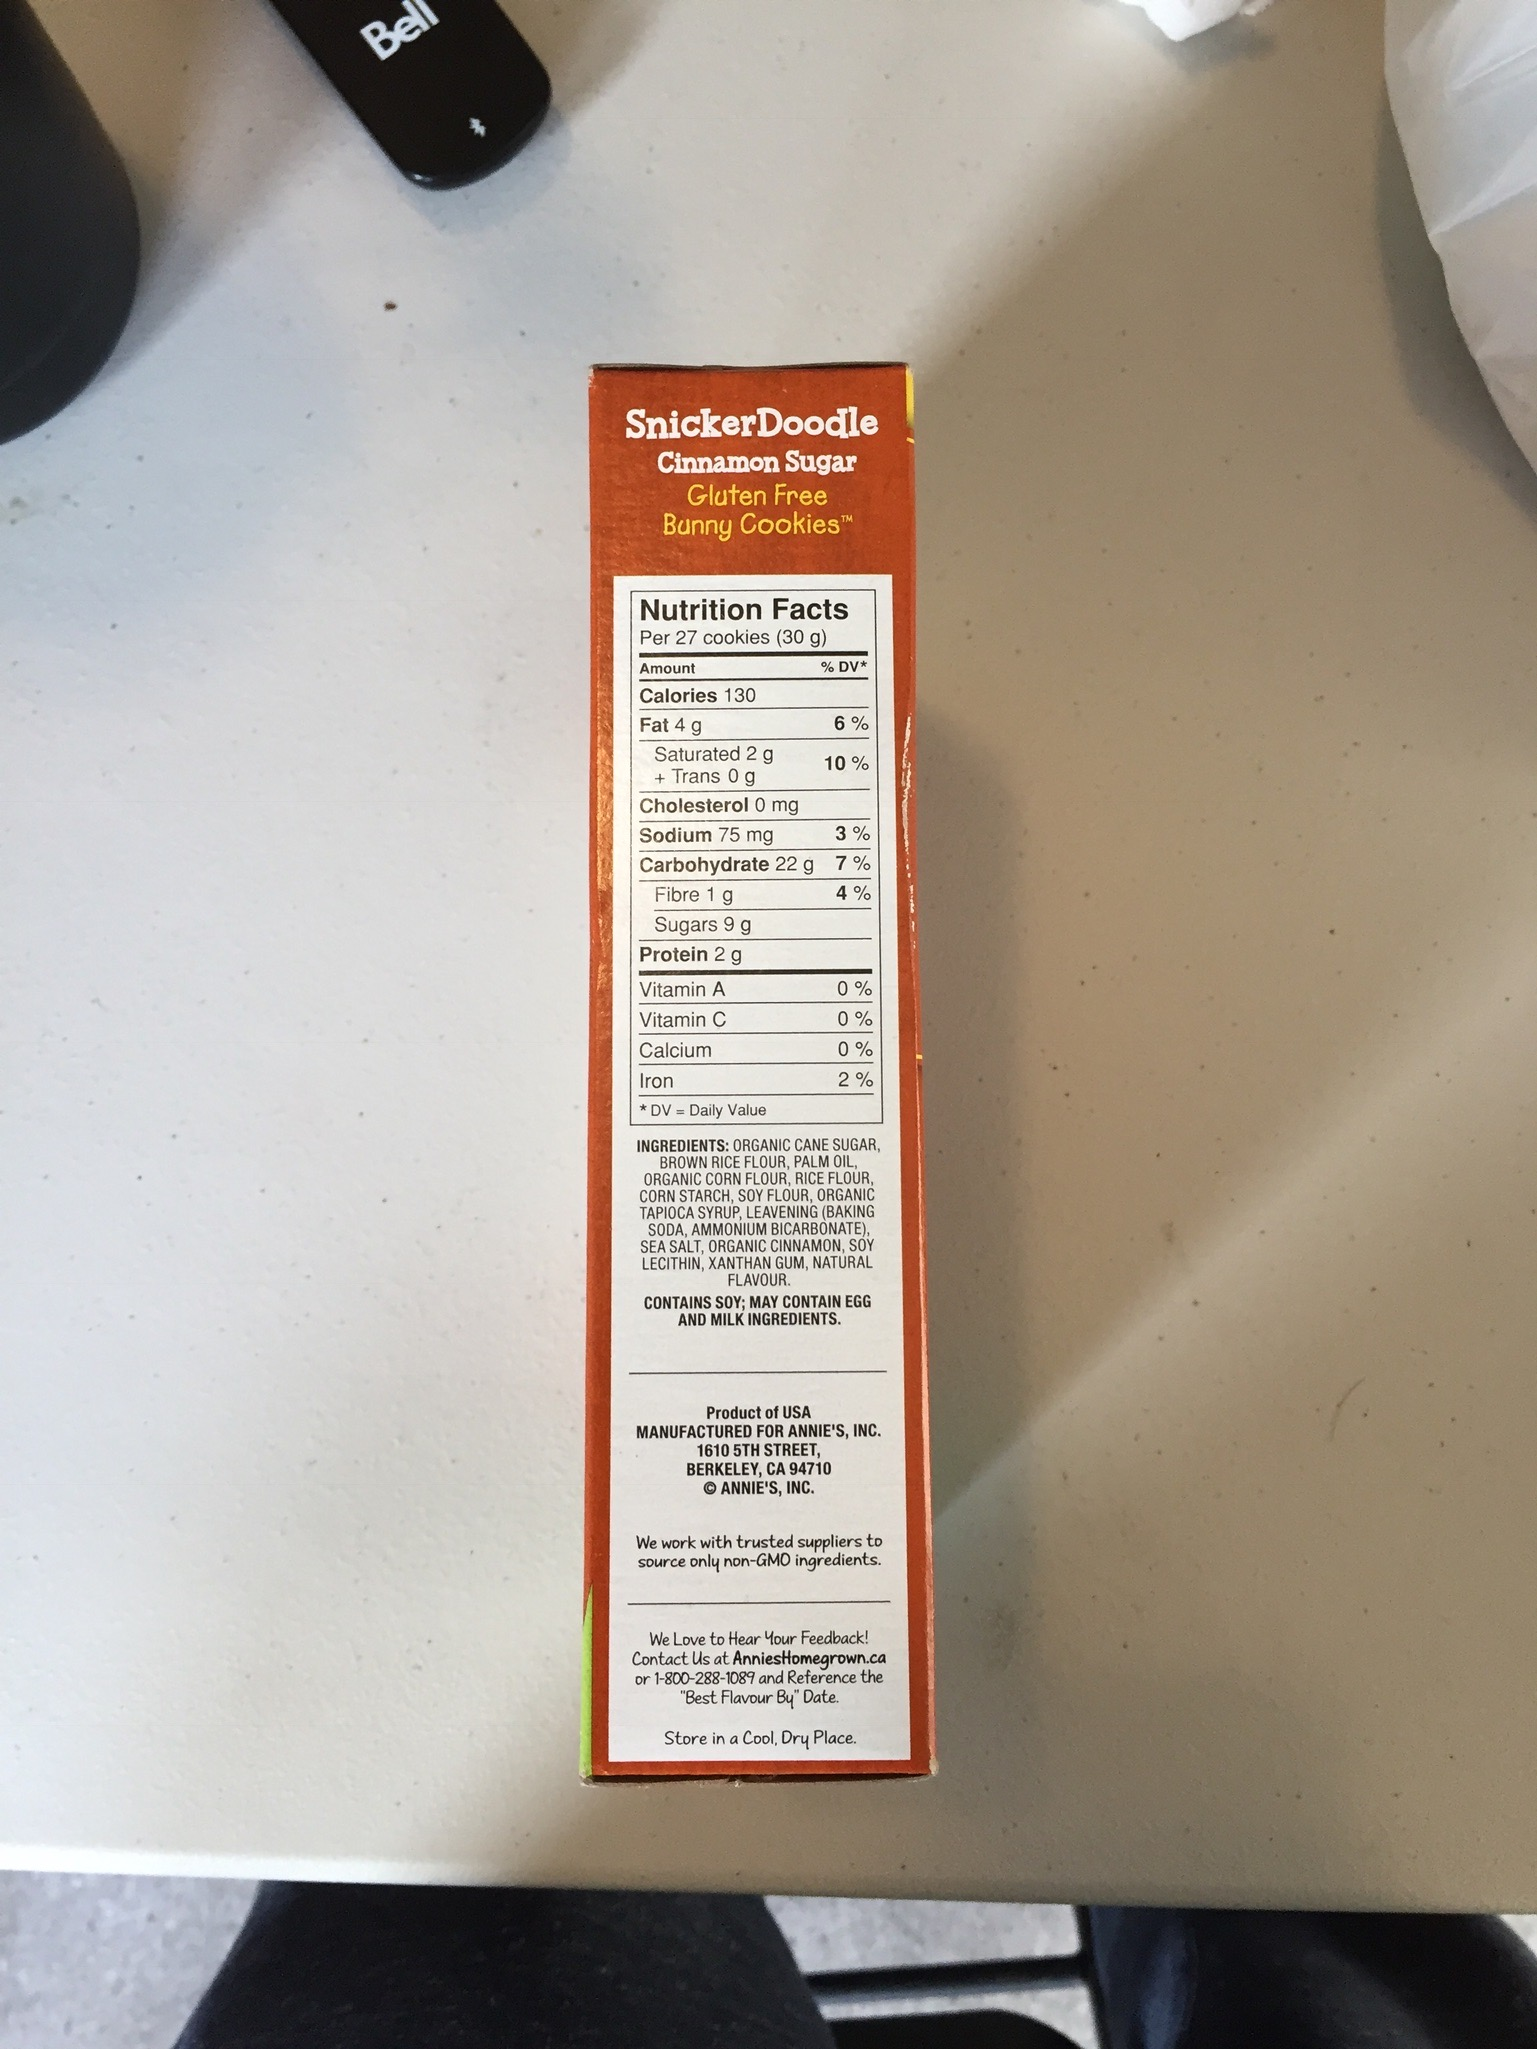annies_snickerdoodles_cinnamon_sugar: (589, 379, 923, 1771)
